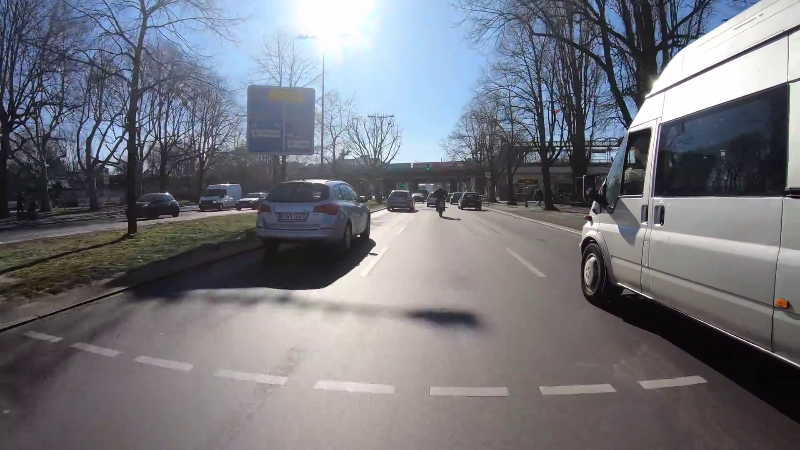Plate: (276, 211, 307, 221)
